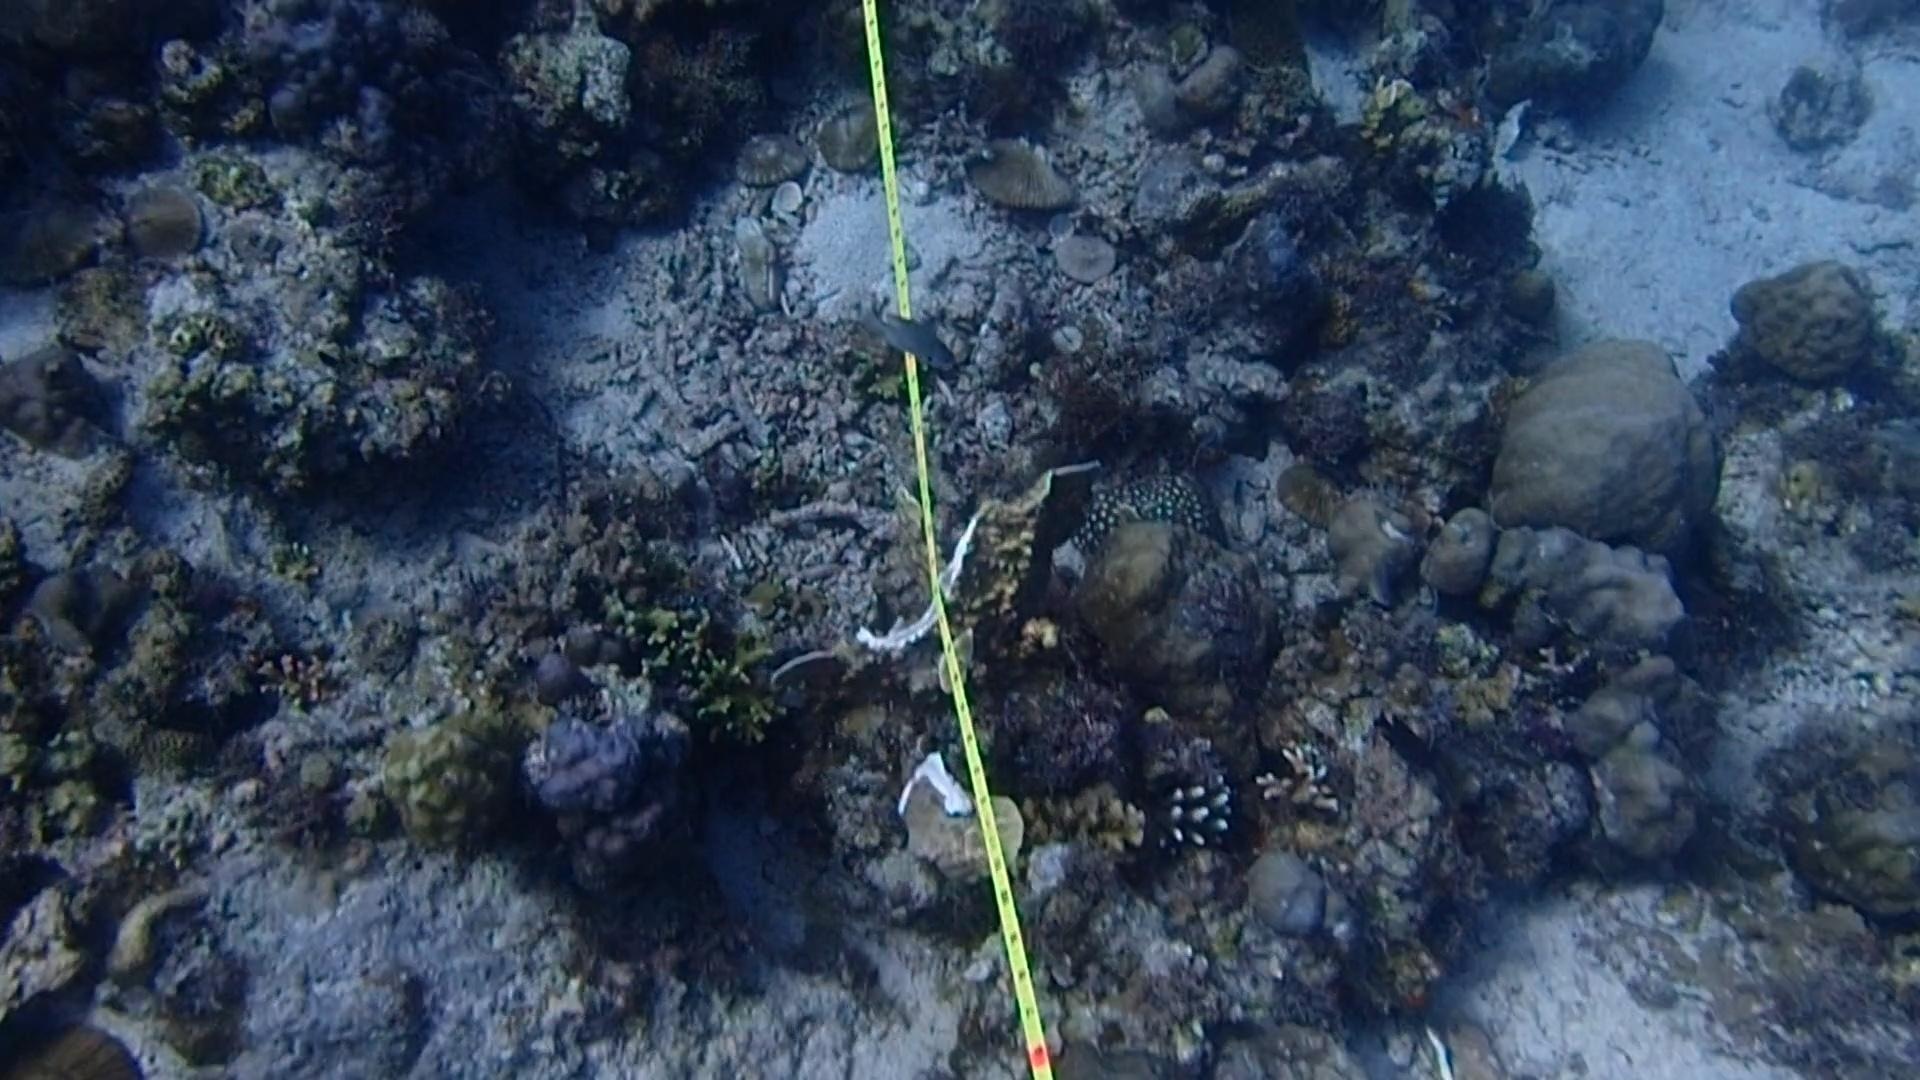Light Fish: (862, 298, 956, 386)
